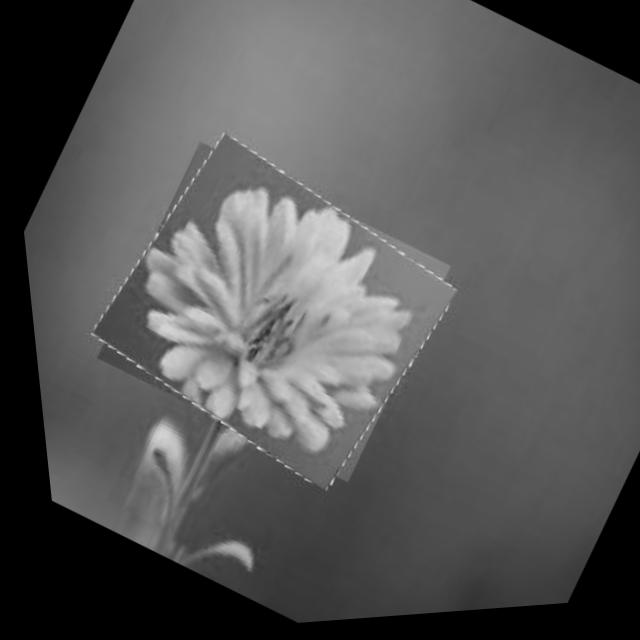Flower: (59, 119, 474, 516)
